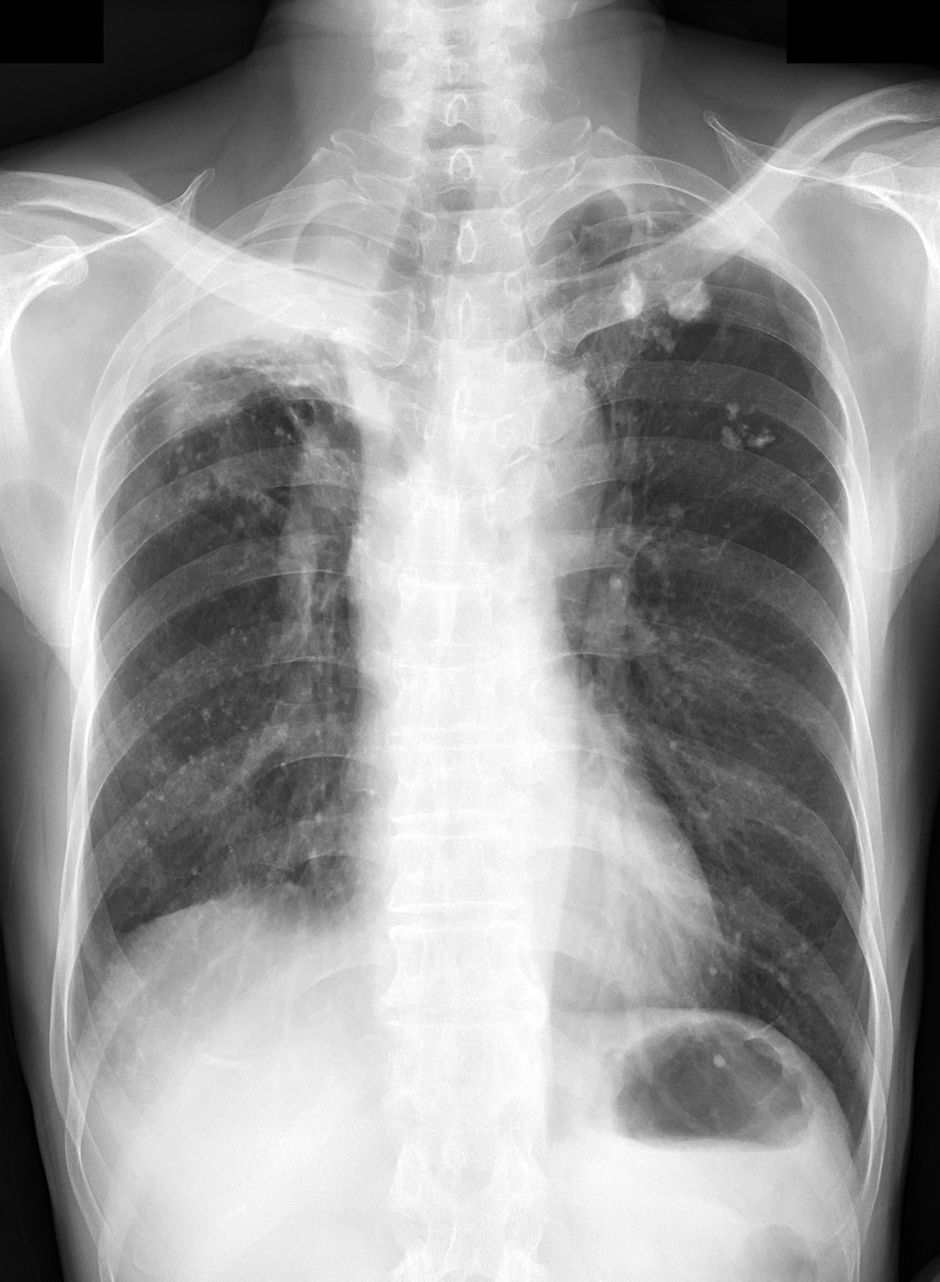Pleural thickening: (122, 216, 360, 348), (620, 172, 732, 226)
Pulmonary fibrosis: (134, 292, 362, 547), (606, 244, 772, 453)
